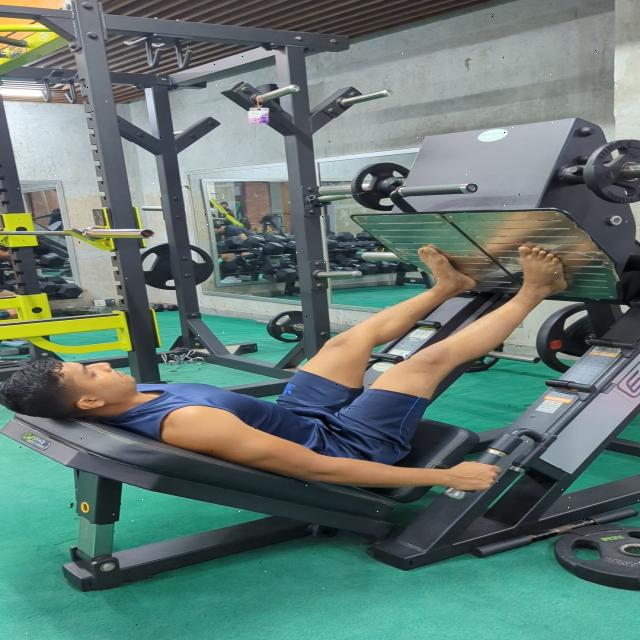Normal_LegPress: (0, 236, 575, 496)
